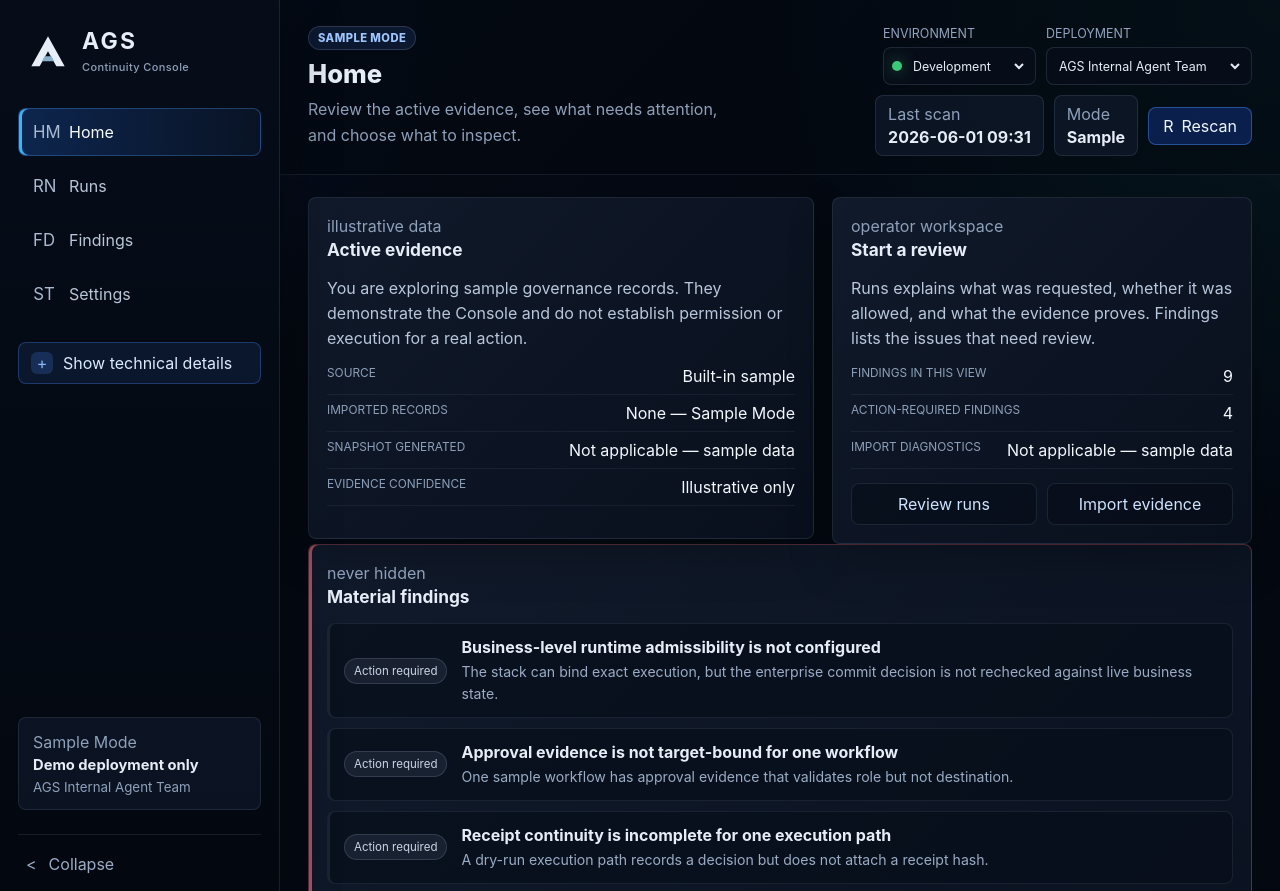
Test: Continuity Console operator shell › keeps empty Local Evidence Home distinct from sample content
The width and height of the screenshot is (1280, 891).
Click the button "Import evidence": (1140, 504) [1047, 483, 1233, 525]
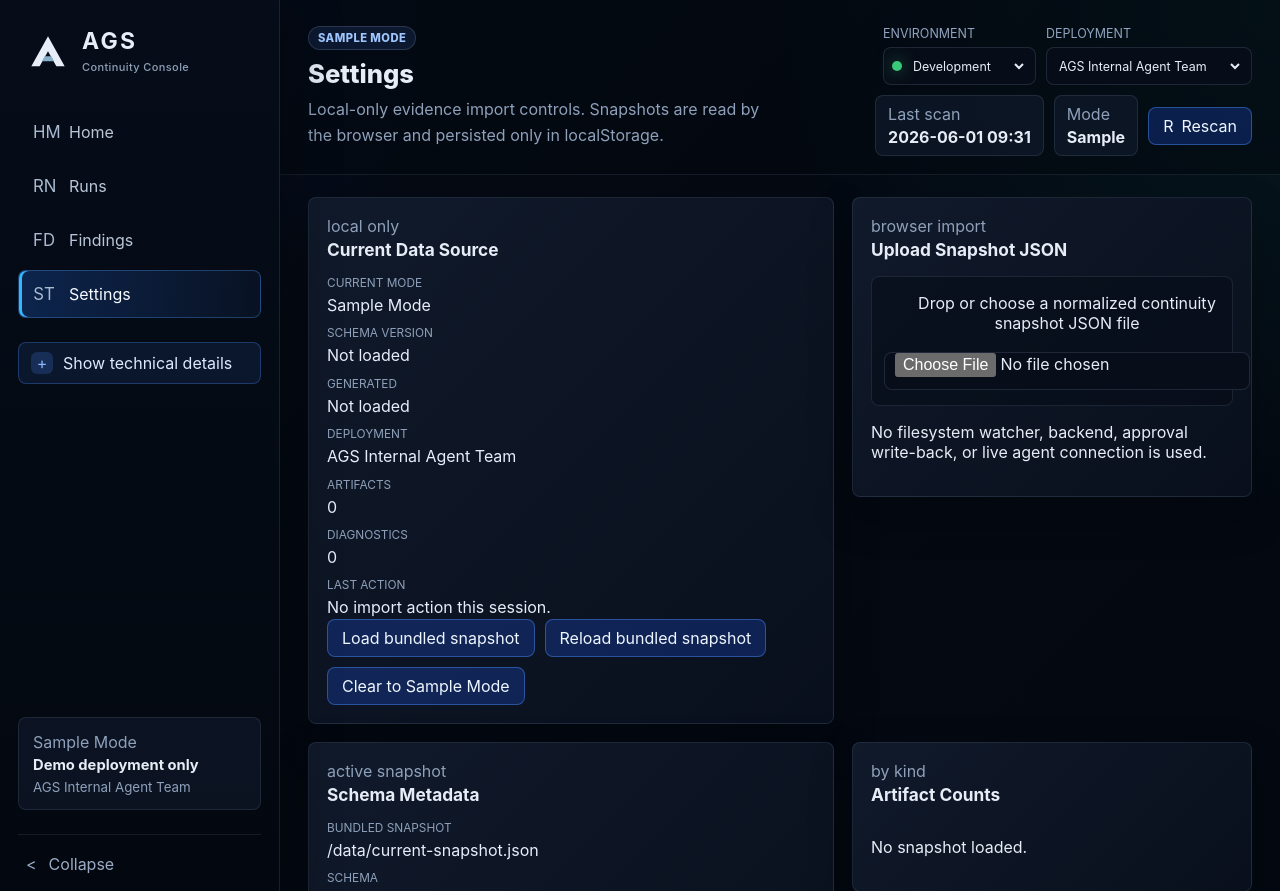
Click the button "Load bundled snapshot": (431, 638) [327, 619, 534, 657]
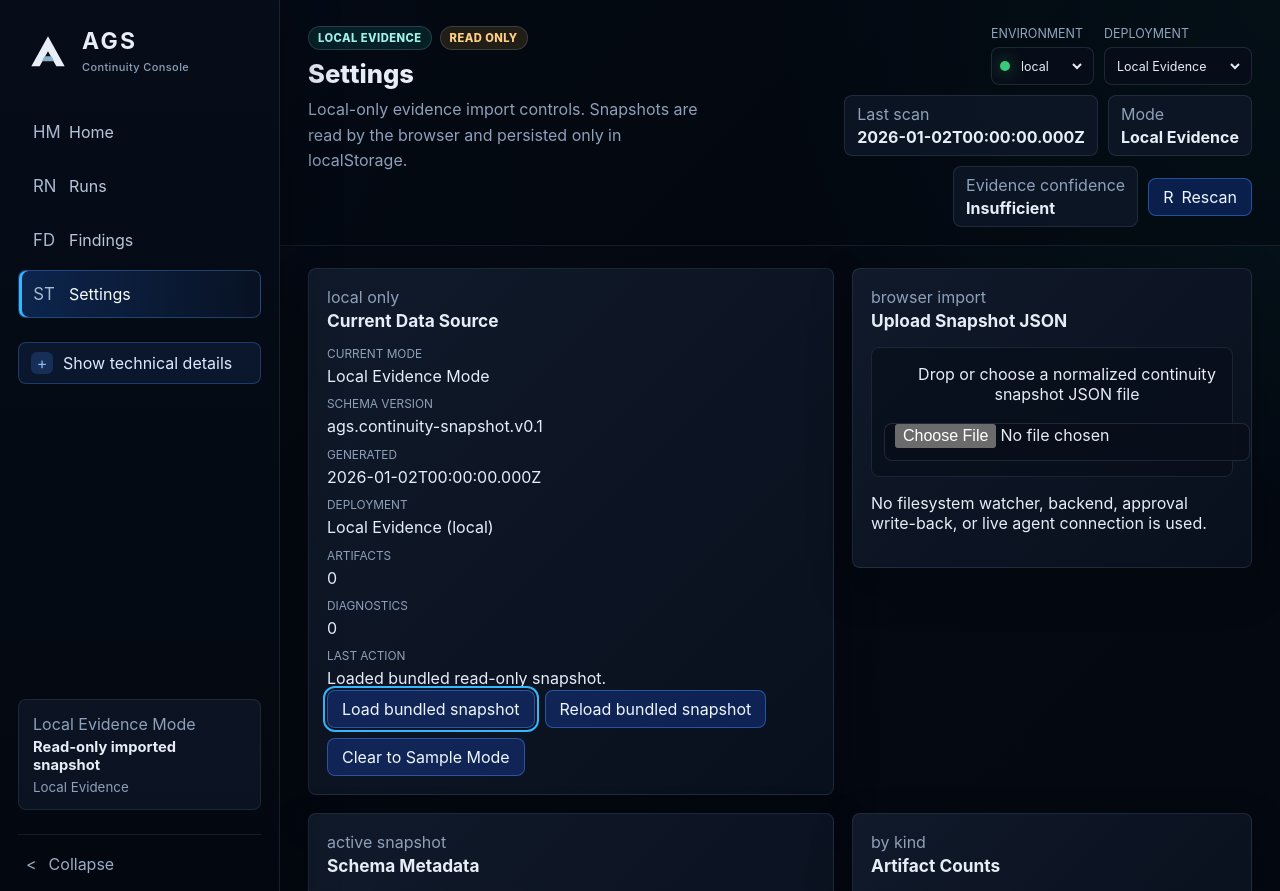
Click the button "Home": (140, 132) [18, 108, 261, 156]
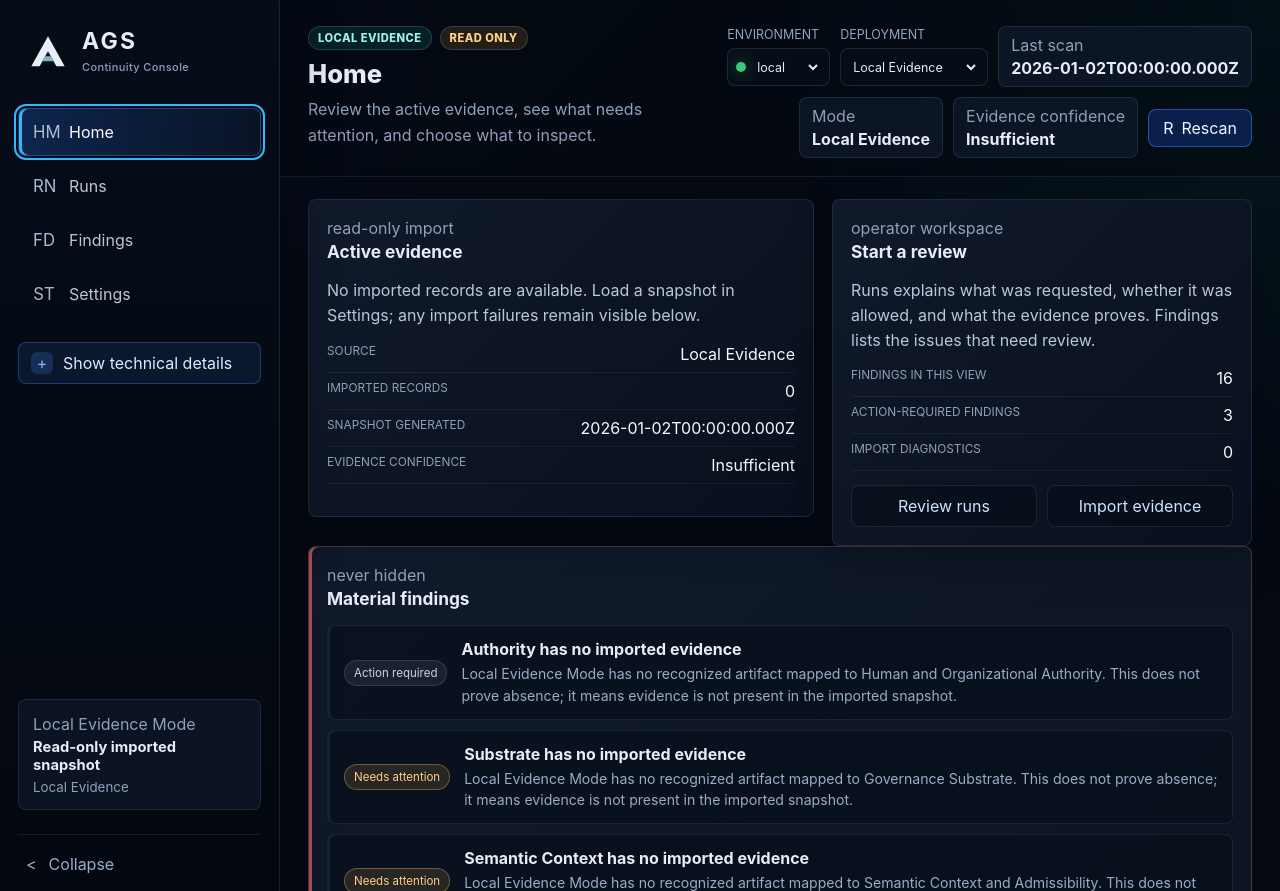
Expected: the text "Built-in sample" is not shown
Expected: the text "No imported records are available" is shown, [327, 280, 735, 325]
Expected: the heading "Material findings" is shown, [327, 588, 470, 609]
